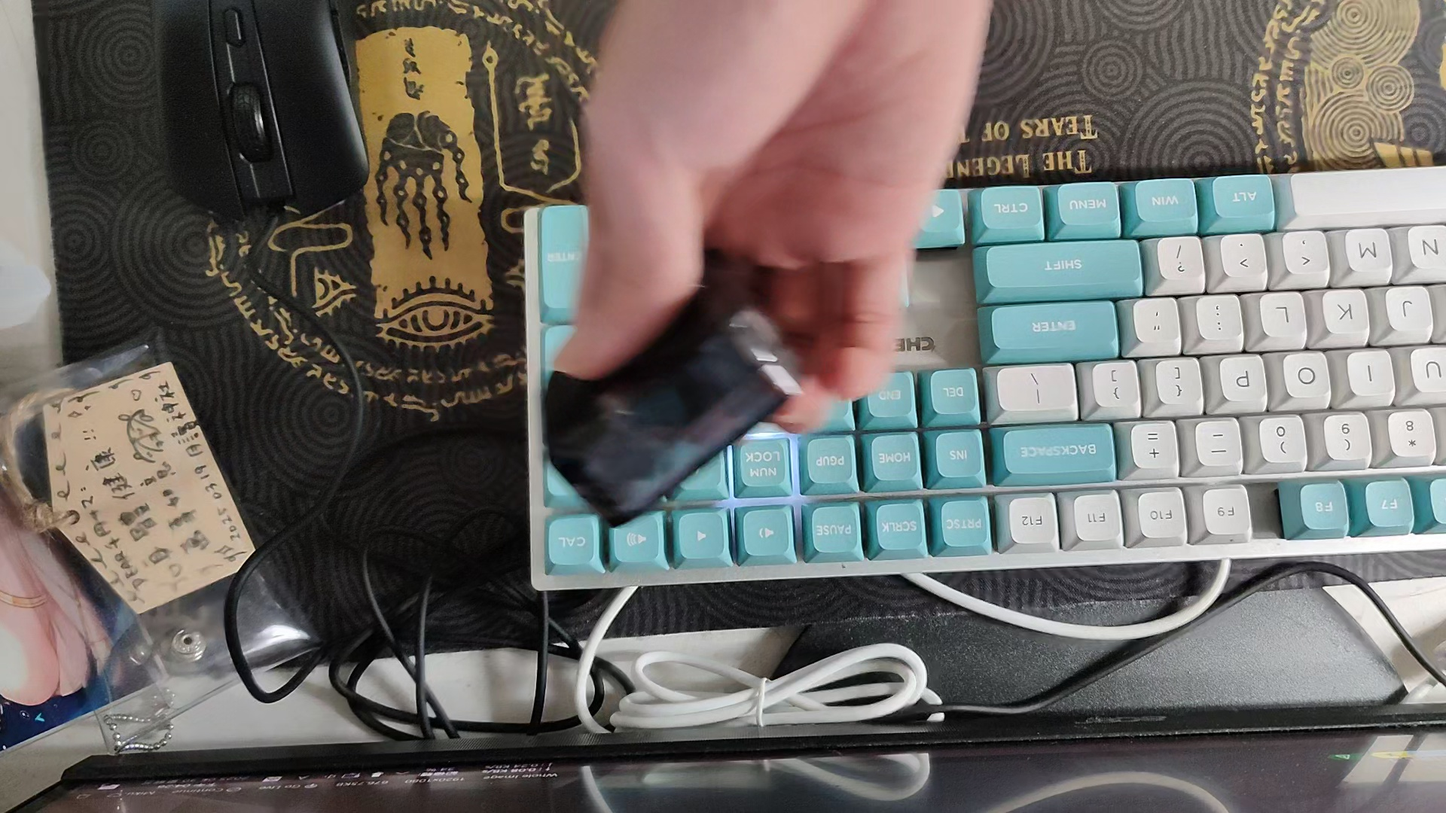Wireless_earphone: (543, 249, 808, 528)
